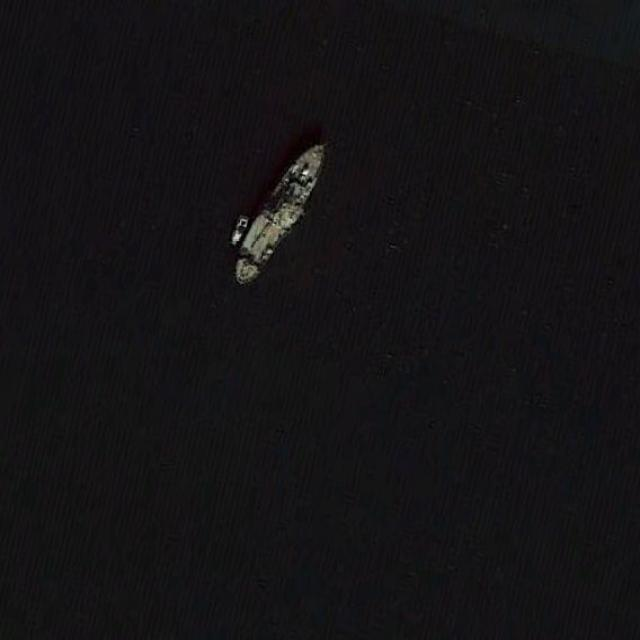boat: (232, 137, 330, 287)
